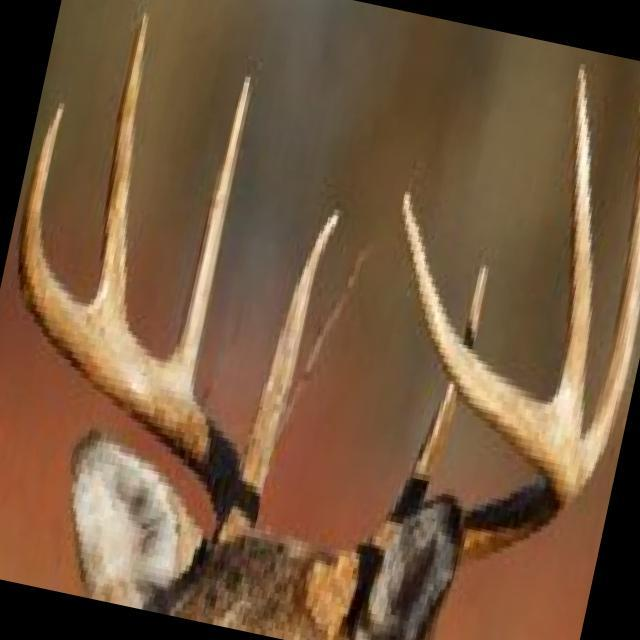L-G2: (570, 87, 640, 502)
L-G3: (547, 63, 595, 440)
R-F: (15, 99, 260, 545)
R-G1: (240, 206, 341, 497)
R-G2: (167, 74, 253, 391)
R-G3: (89, 11, 150, 329)
